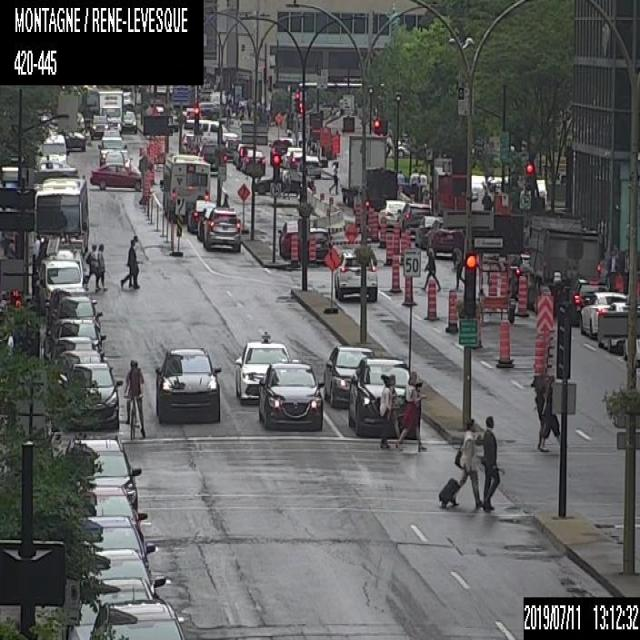bus: (32, 176, 88, 253), (158, 153, 208, 221)
construction: (533, 291, 552, 379), (325, 246, 338, 315), (532, 334, 549, 386), (236, 181, 249, 231), (497, 317, 509, 365), (425, 274, 437, 318), (487, 268, 498, 310), (516, 273, 526, 315), (499, 271, 509, 309), (390, 253, 400, 291), (447, 287, 458, 321), (342, 222, 358, 244), (147, 142, 155, 183), (402, 275, 413, 304), (385, 232, 394, 264), (140, 168, 148, 202), (354, 199, 362, 233), (290, 233, 298, 266), (400, 232, 408, 264), (308, 233, 316, 265), (370, 210, 378, 240), (379, 217, 387, 247), (392, 225, 399, 257), (274, 112, 281, 137)
cyclist: (122, 358, 145, 438)
pedestrian: (437, 415, 484, 509), (396, 370, 426, 450), (480, 414, 501, 509), (539, 375, 560, 451), (118, 232, 140, 289), (378, 370, 393, 447), (530, 376, 545, 448), (421, 244, 441, 289), (82, 241, 99, 291), (97, 243, 107, 290), (454, 243, 464, 288), (607, 249, 618, 288), (280, 157, 290, 198), (327, 158, 338, 194), (621, 247, 629, 292), (409, 166, 419, 187), (482, 189, 491, 210), (419, 168, 426, 184), (397, 168, 404, 184)
vehicle: (527, 212, 598, 314), (346, 355, 424, 438), (64, 436, 138, 509), (154, 346, 221, 426), (65, 579, 154, 639), (232, 329, 300, 404), (257, 362, 324, 431), (82, 548, 166, 598), (62, 360, 120, 428), (88, 599, 186, 639), (76, 484, 147, 539), (81, 516, 156, 567), (337, 129, 385, 208), (324, 340, 376, 409), (54, 349, 103, 407), (34, 258, 84, 312), (332, 246, 376, 298), (580, 291, 628, 335), (202, 203, 242, 252), (569, 276, 609, 324), (53, 295, 100, 331), (254, 169, 317, 195), (363, 166, 397, 213), (426, 219, 464, 258), (90, 162, 140, 189), (182, 119, 238, 143), (397, 202, 433, 235), (97, 90, 126, 130), (186, 198, 220, 232), (274, 219, 301, 261), (305, 224, 330, 264), (36, 133, 65, 164), (414, 215, 442, 246), (35, 162, 78, 182), (199, 140, 225, 173), (379, 199, 409, 226), (268, 137, 294, 165), (98, 136, 128, 160), (241, 147, 265, 173), (232, 143, 255, 168), (89, 114, 108, 138), (181, 130, 199, 154), (296, 159, 321, 176), (120, 109, 138, 132), (184, 106, 202, 128), (223, 138, 240, 160), (104, 150, 124, 167)
